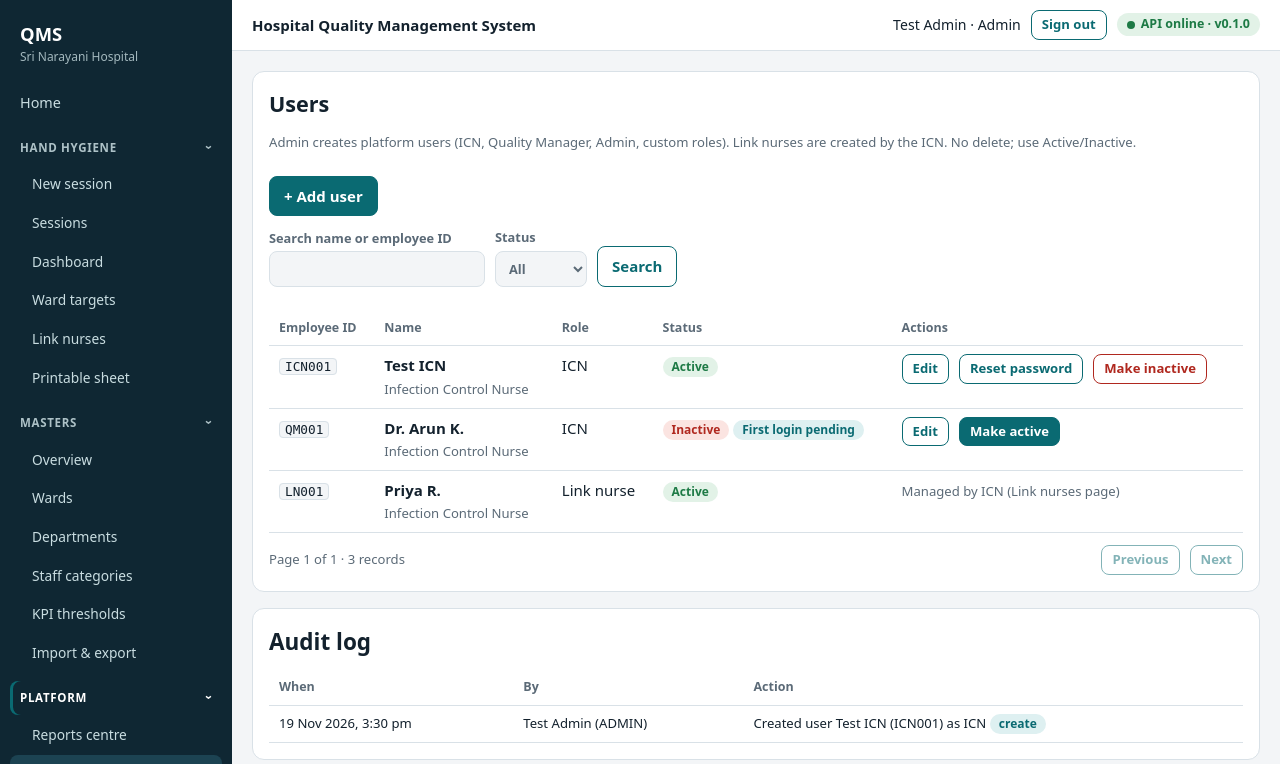
Users page › resets a password and shows it once; only for active users
Expected: the text "ICN001" is shown, [279,358,337,375]
Click the button with aria-label "Reset password for Test ICN".
click(1021, 369)  # box [959,354,1083,384]
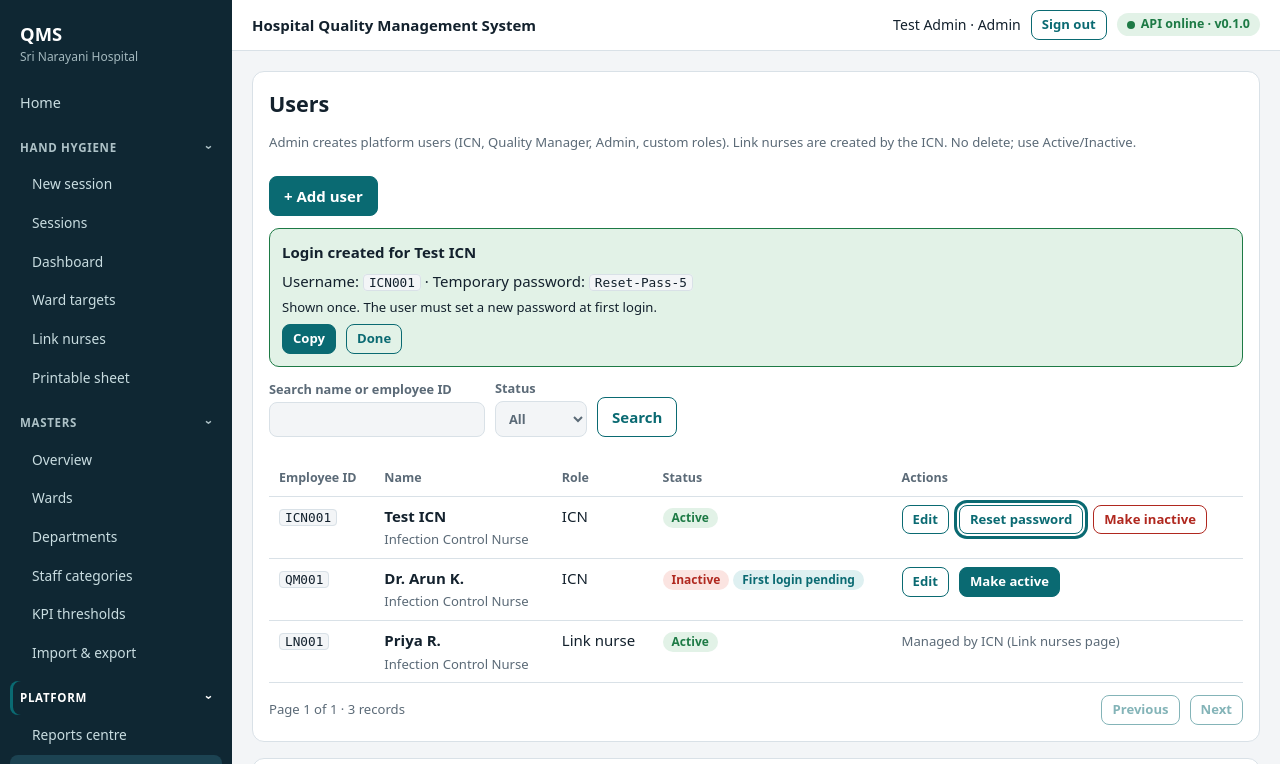
Now the text "Reset-Pass-5" is shown, box [589,274,693,291]
